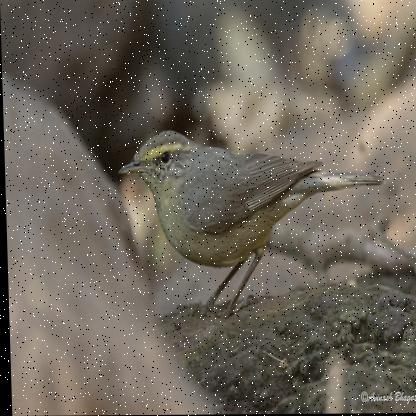Burung: (112, 128, 387, 319)
